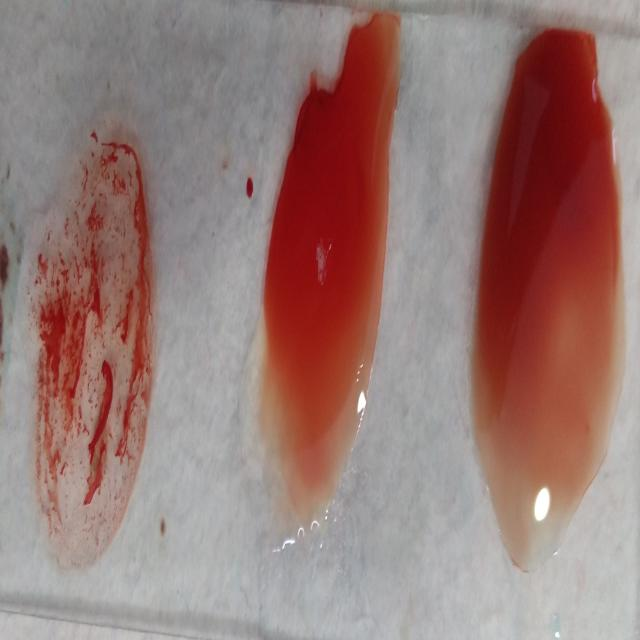D: (31, 110, 156, 572)
